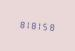eight: (48, 20, 53, 32), (17, 18, 22, 29), (30, 19, 35, 30)
five: (42, 20, 47, 31)
one: (23, 18, 28, 30), (36, 19, 41, 31)
